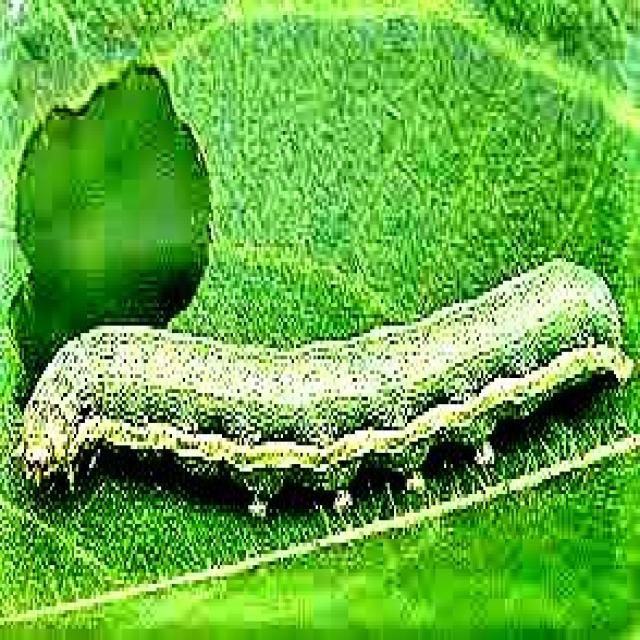armyworm: (16, 251, 634, 516)
